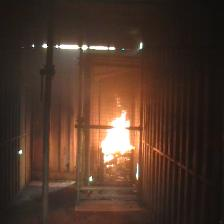fire: (101, 110, 136, 163)
